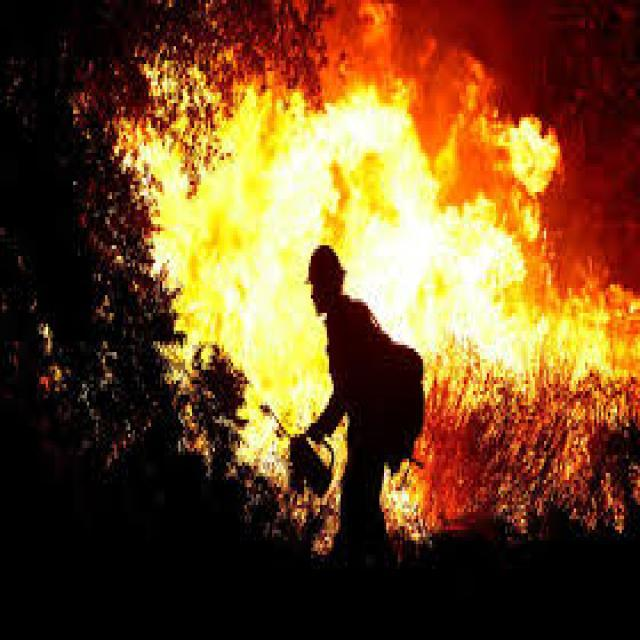Fire: (123, 35, 640, 548)
